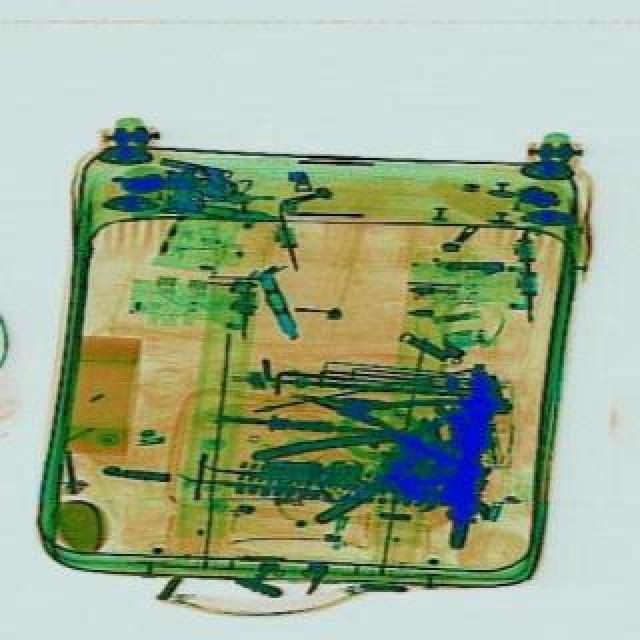wrench: (278, 360, 468, 466)
